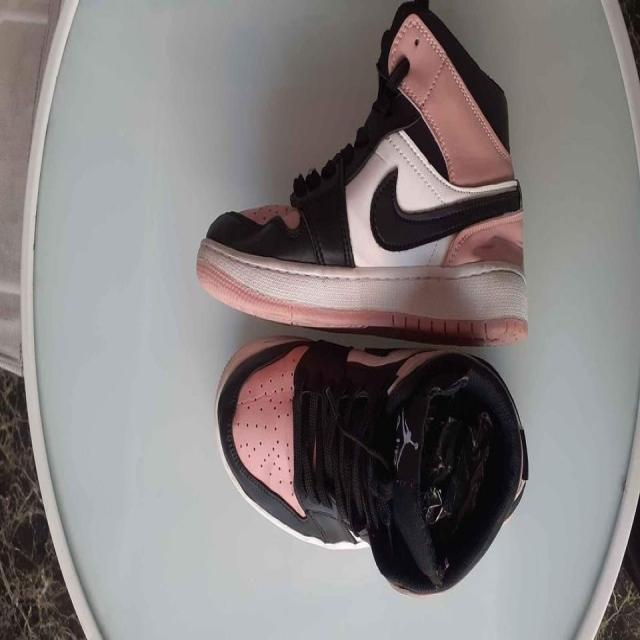nike fake jordan 1: (195, 0, 547, 336), (215, 338, 529, 596)
